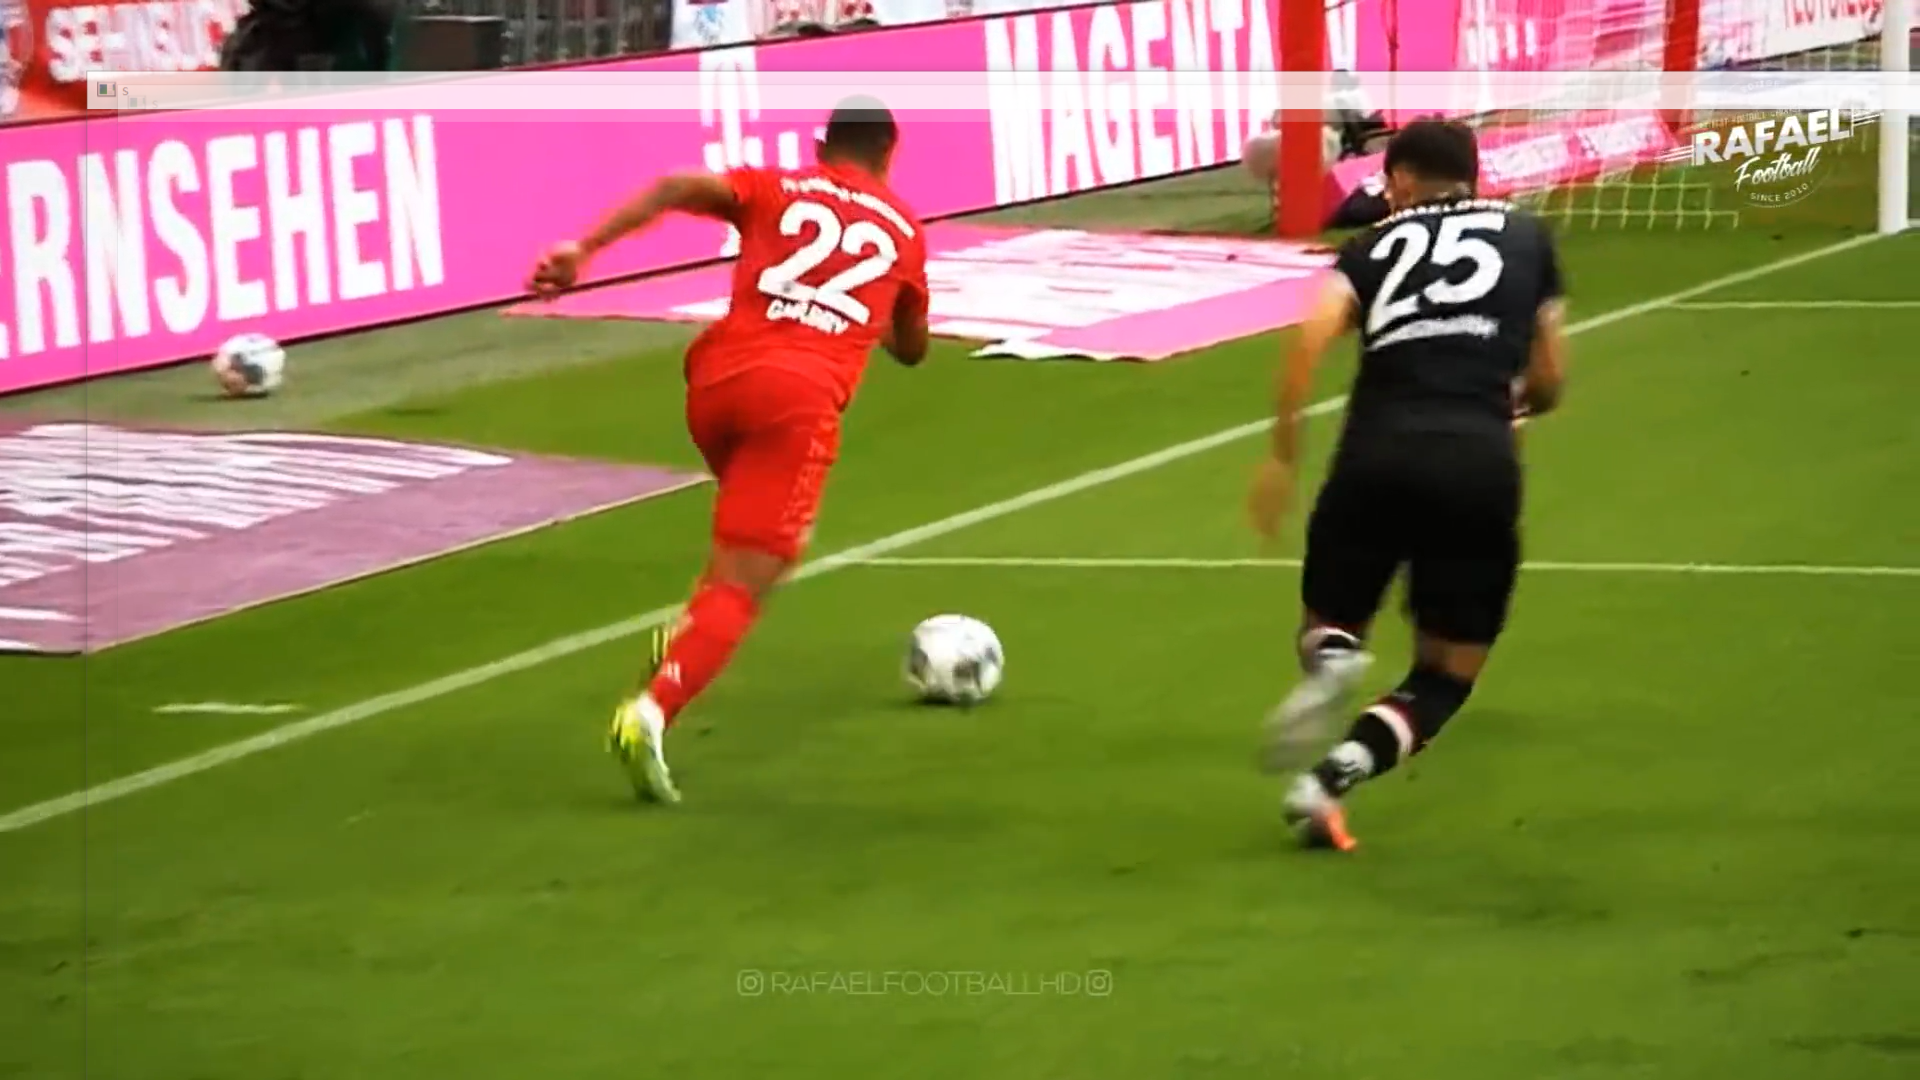ft: (899, 607, 1015, 713), (211, 331, 290, 402)
